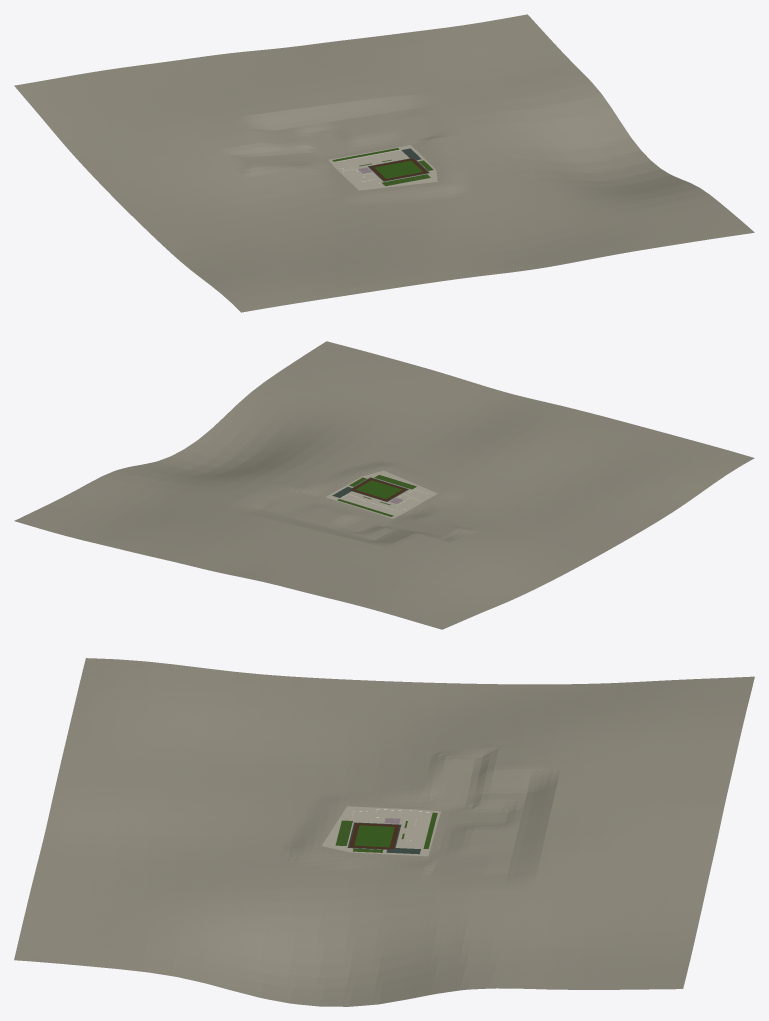
The picture shows the model from 3 angles, top to bottom: view 1: azimuth 30°, elevation 25°; view 2: azimuth 150°, elevation 25°; view 3: azimuth 270°, elevation 25°; orthographic projection. The views are drawn at different scales.
Visible parts, largest first — view 1: ground_context-estimated, surface_school-paved-walk, surface_sports-field; view 2: ground_context-estimated, surface_school-paved-walk; view 3: ground_context-estimated, surface_school-paved-walk, surface_sports-field.
Boxes of the visible parts, box(x1,y1,x2,y2) form: ground_context-estimated: box(14, 14, 754, 312); surface_school-paved-walk: box(328, 145, 437, 190); surface_sports-field: box(374, 160, 422, 178); ground_context-estimated: box(14, 341, 754, 629); surface_school-paved-walk: box(325, 470, 437, 518); ground_context-estimated: box(14, 658, 754, 1006); surface_school-paved-walk: box(322, 806, 440, 856); surface_sports-field: box(354, 825, 394, 847).
Bounding box in the file's own units: 793 × 76.37 × 793.
7 materials, 7 textured.
